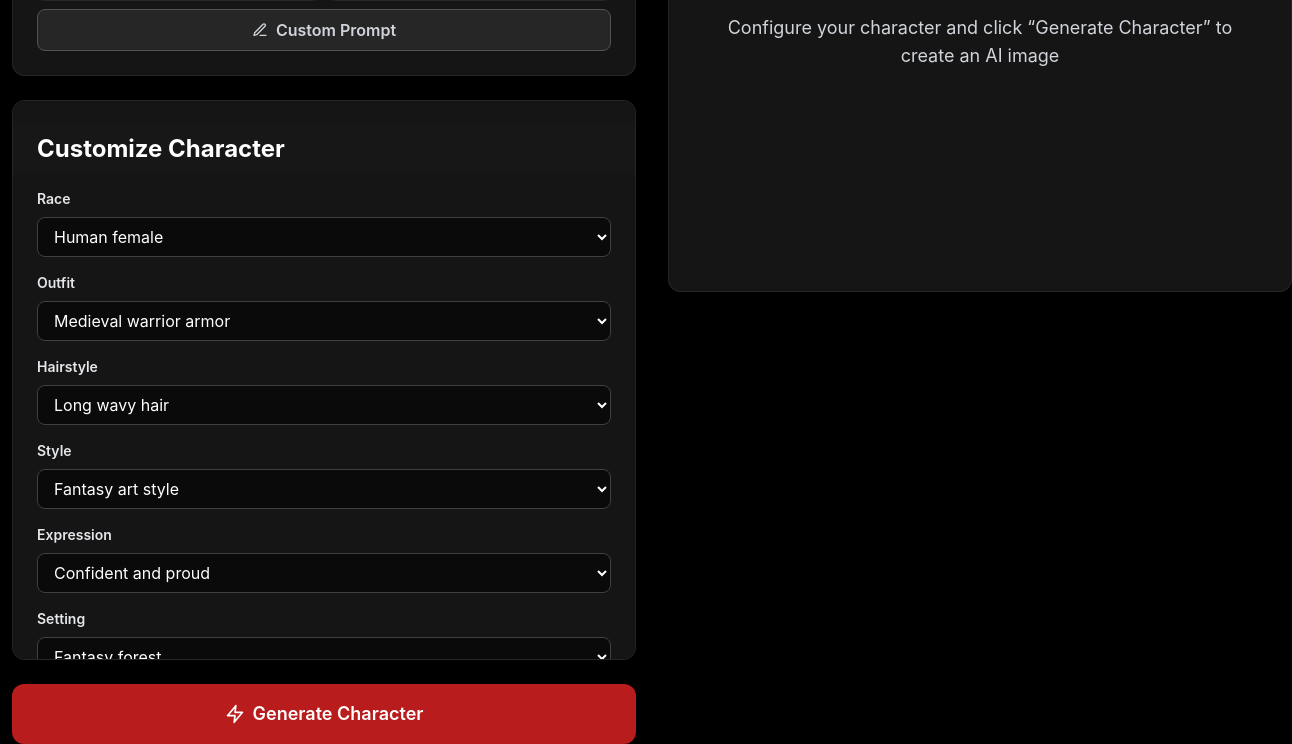
Test: CharacterCustomizer › displays an error message when the API returns an error
(page scrolled)
Step 1. Click the button "Generate Character" → (324, 714), box [12,684,636,743]
(page scrolled)
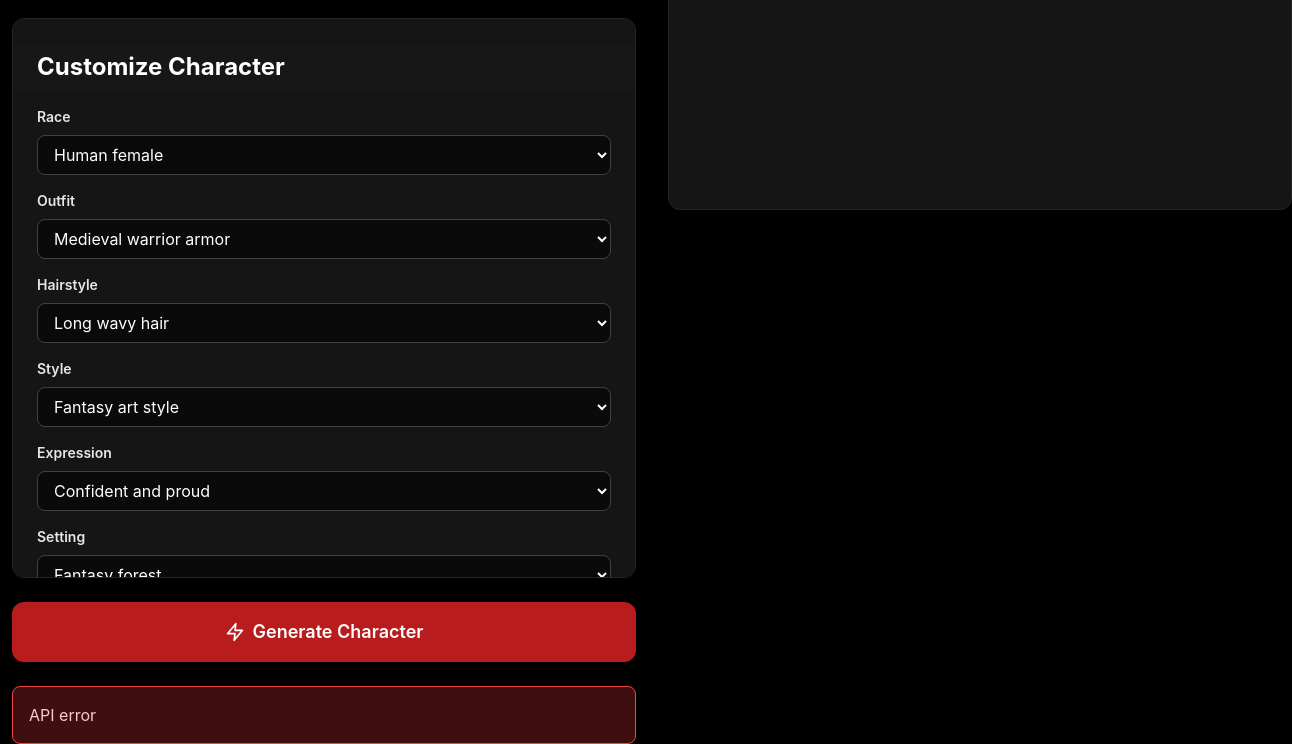
Check: the text "API error" is shown, box [12,686,636,743]
